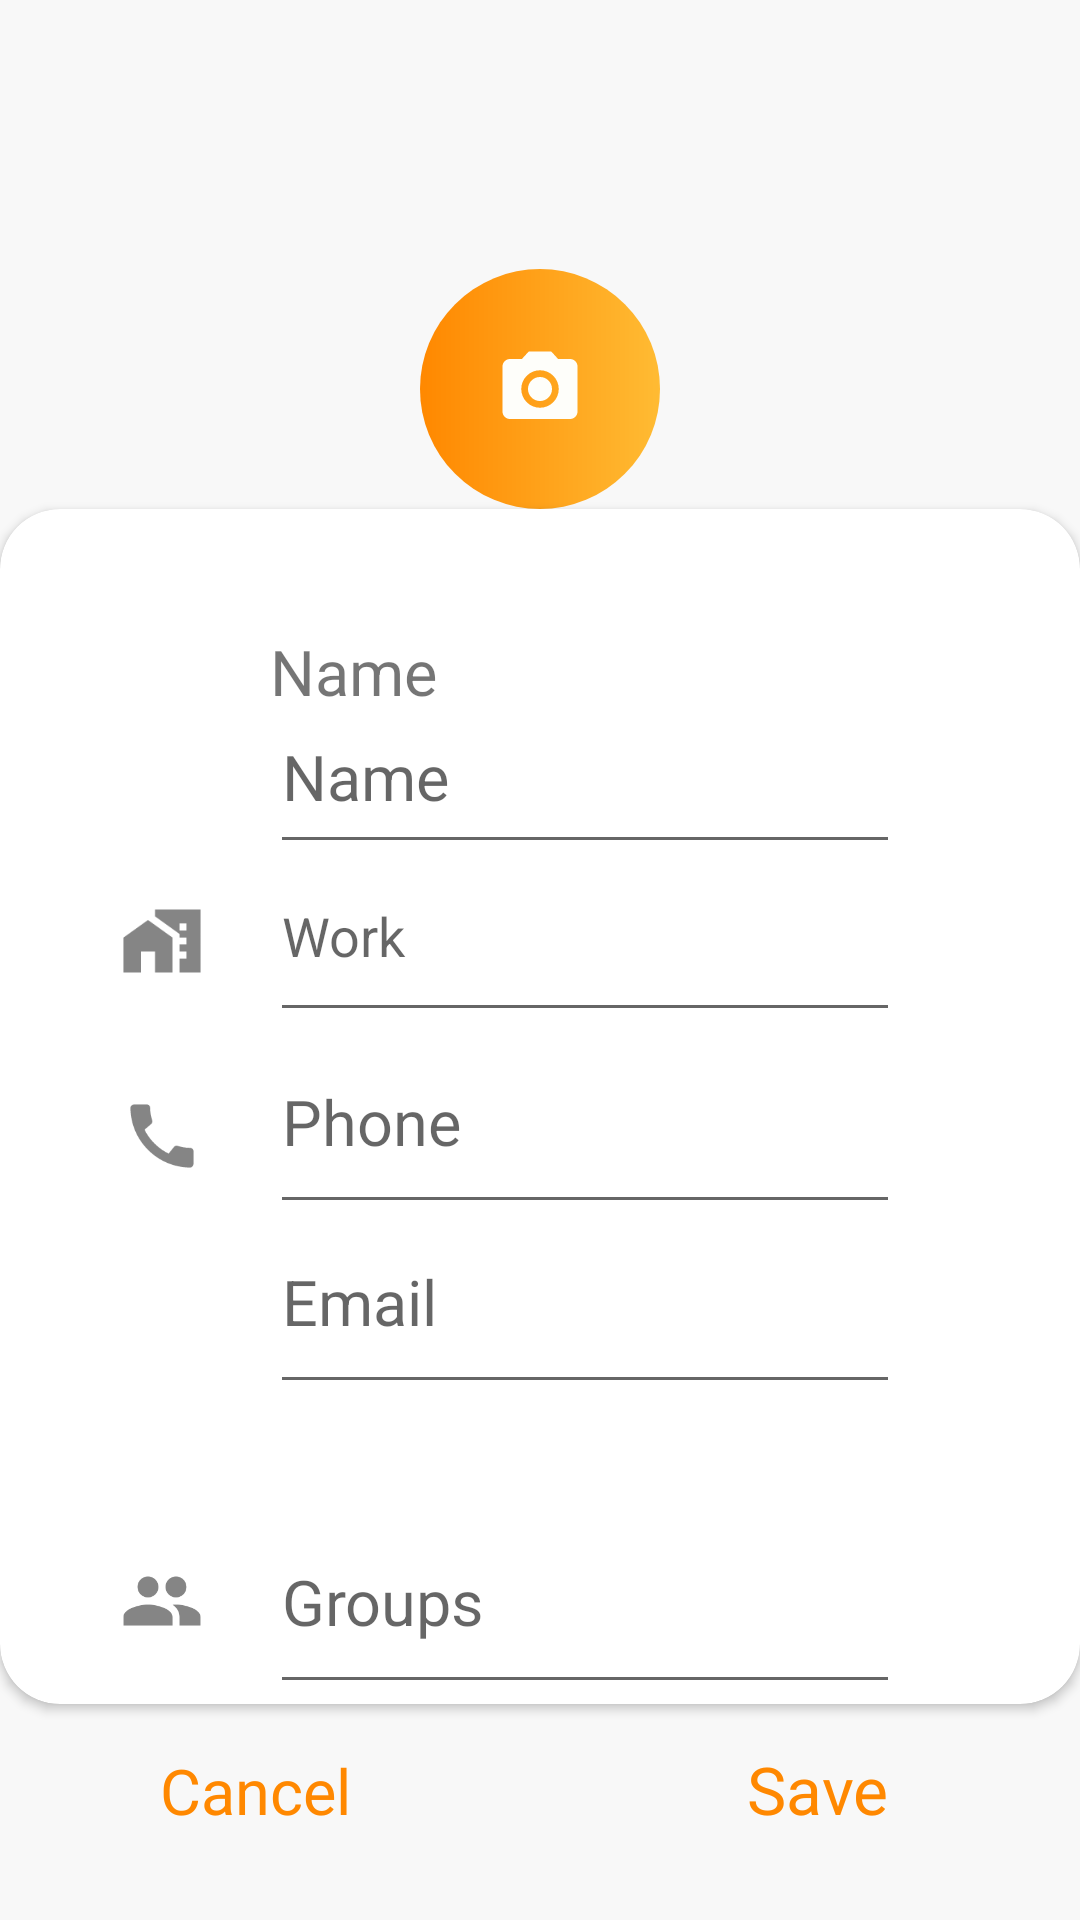

Point at icon controls on the screen. Image size 1080 × 1920, points as (x,y).
callgray: (162,1136)
camera: (540,389)
